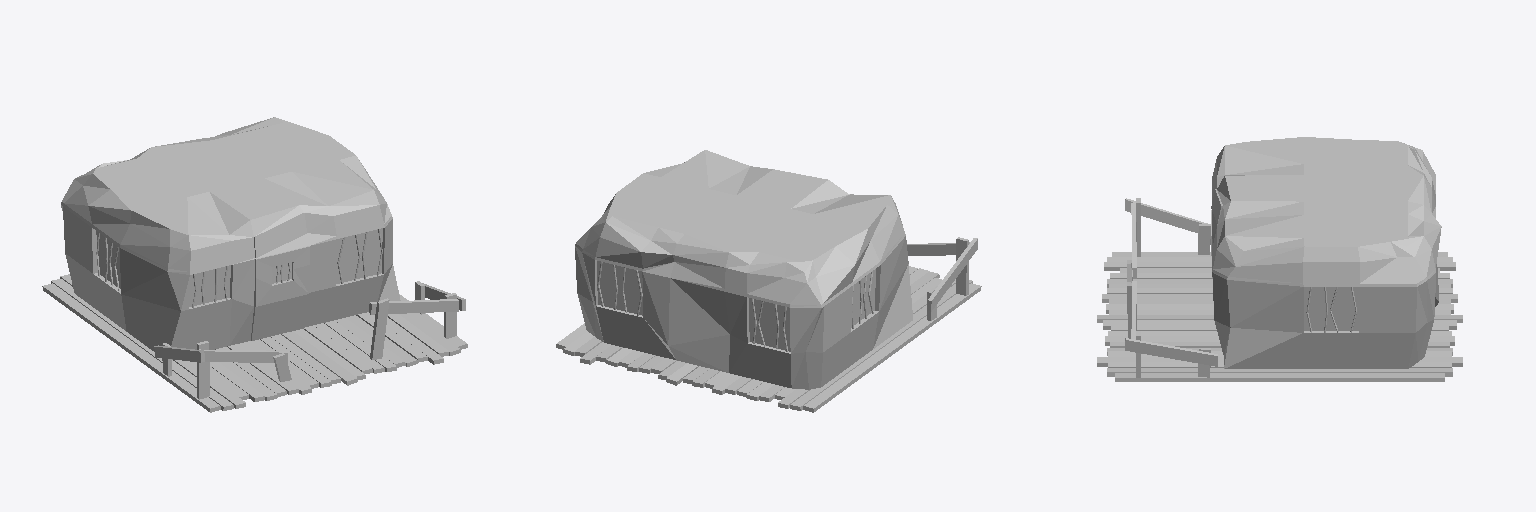
File: ghostWestern_tower_jail_d1.obj
3 views of the same model, side by side, from view 1: azimuth 30°, elevation 25°; view 2: azimuth 150°, elevation 25°; view 3: azimuth 270°, elevation 25° (orthographic).
Visible parts, largest first — view 1: ghostWestern_tower_jail_d0_032Jail_building1, Default1, jail_door_032ghostWestern_tower_jail_d1, ghostWestern_tower_jail_d0_032Jail_building; view 2: ghostWestern_tower_jail_d0_032Jail_building1, Default1, ghostWestern_tower_jail_d0_032Jail_building; view 3: ghostWestern_tower_jail_d0_032Jail_building1, Default1.
Boxes of the visible parts, box(x1,y1,x2,y2) form: ghostWestern_tower_jail_d0_032Jail_building1: box(61, 117, 400, 359); Default1: box(42, 274, 467, 412); jail_door_032ghostWestern_tower_jail_d1: box(251, 246, 309, 340); ghostWestern_tower_jail_d0_032Jail_building: box(96, 229, 382, 307); ghostWestern_tower_jail_d0_032Jail_building1: box(575, 150, 912, 389); Default1: box(556, 237, 981, 412); ghostWestern_tower_jail_d0_032Jail_building: box(597, 262, 873, 351); ghostWestern_tower_jail_d0_032Jail_building1: box(1211, 137, 1441, 368); Default1: box(1097, 198, 1462, 381).
Bounding box in the file's own units: 8.58 × 3.96 × 10.22.